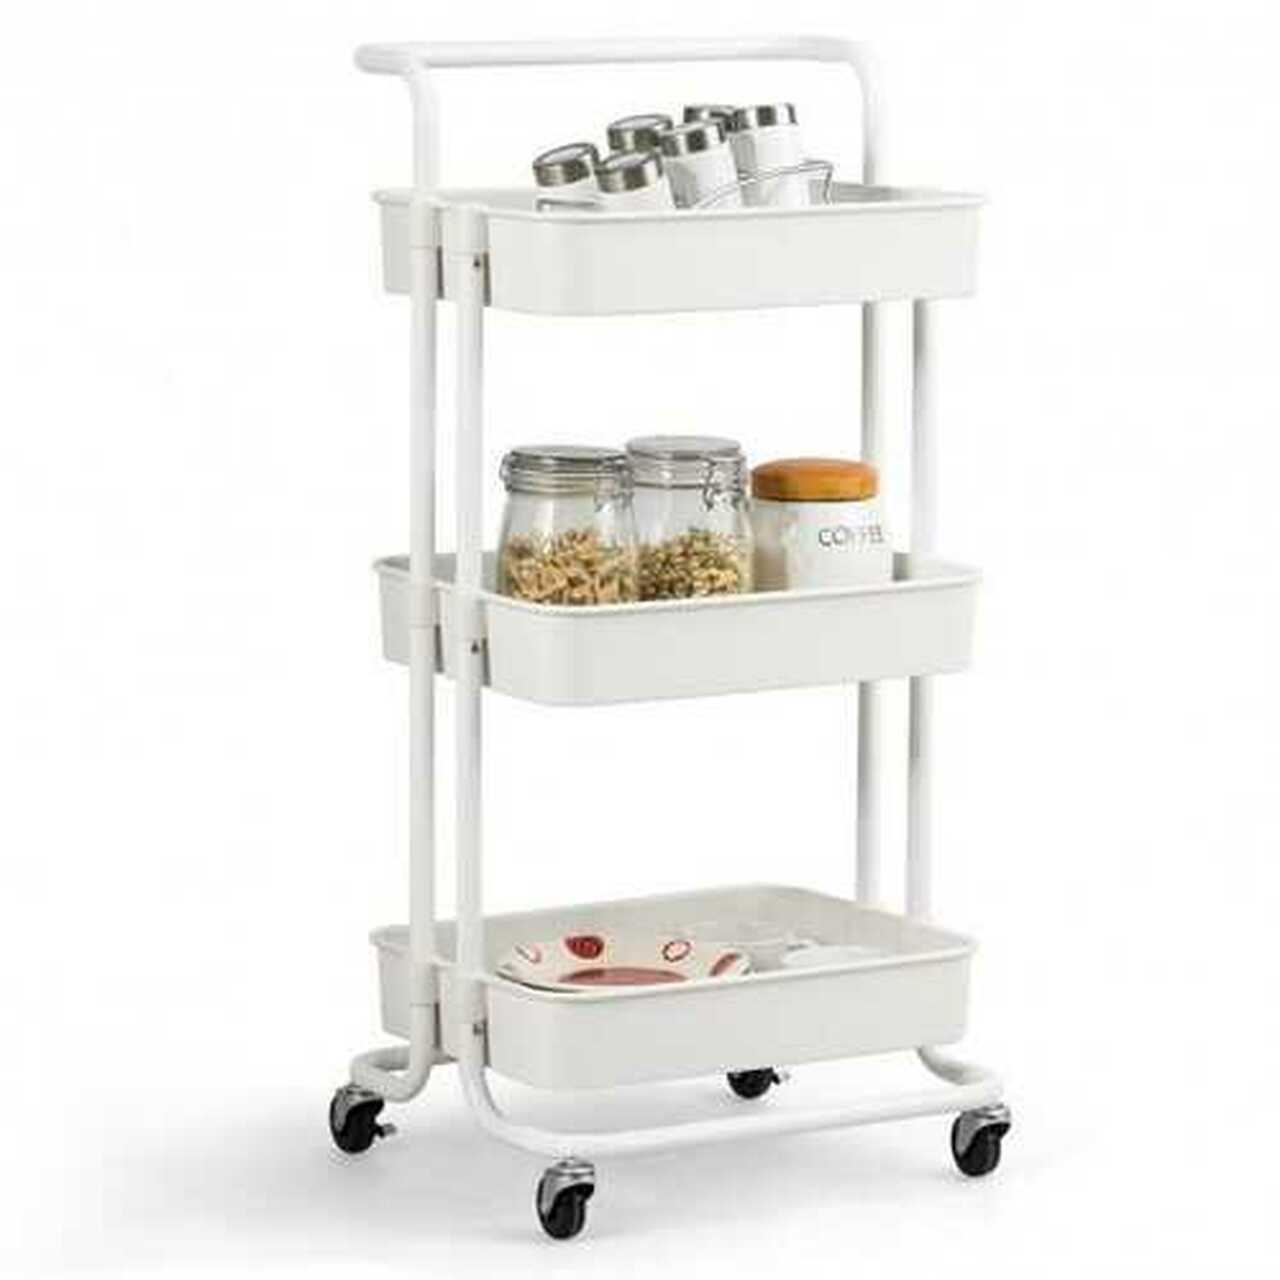Carts: (327, 41, 1012, 1238)
